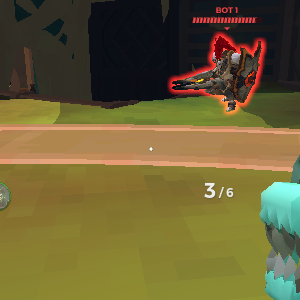model: (172, 31, 266, 120)
